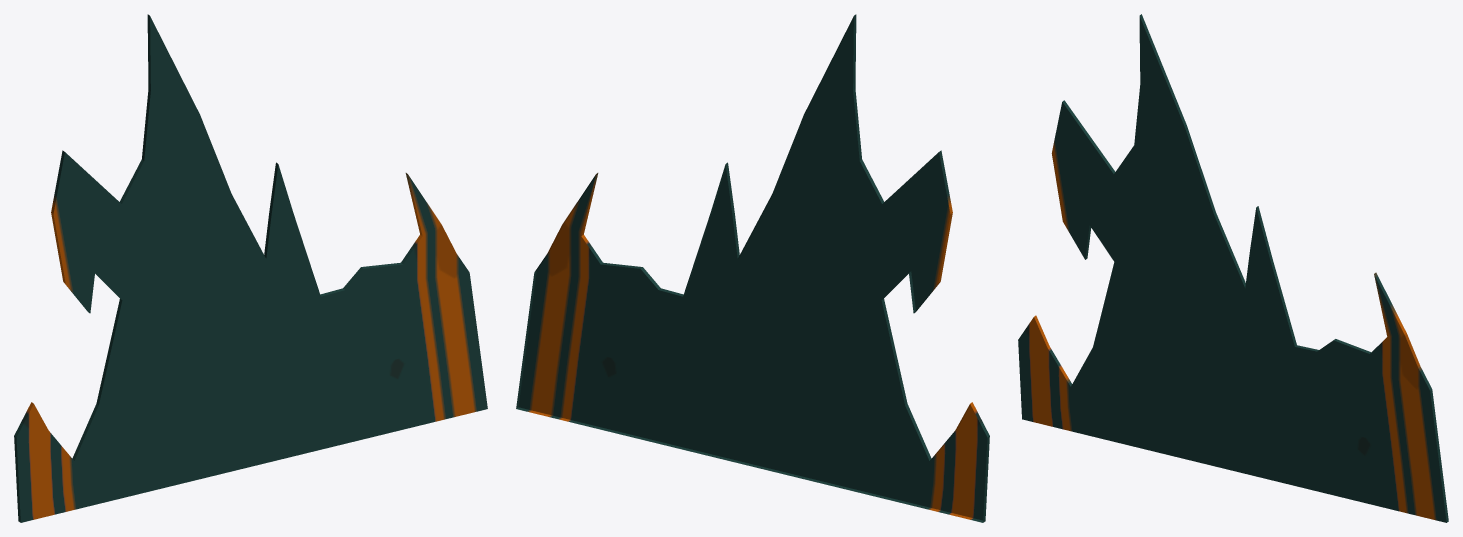
Rendered from Carpet 01 End 02.FBX.
The picture shows the model from 3 angles, left to right: view 1: azimuth 30°, elevation 25°; view 2: azimuth 150°, elevation 25°; view 3: azimuth 330°, elevation 25°; orthographic projection. The views are drawn at different scales.
Parts seen in each view (by area): view 1: Carpet 01 End 02; view 2: Carpet 01 End 02; view 3: Carpet 01 End 02.
Part boxes in pixels (x1,y1,x2,y2): Carpet 01 End 02: (14,14,487,522); Carpet 01 End 02: (516,14,989,522); Carpet 01 End 02: (1018,14,1448,522).
Bounding box in the file's own units: 168 × 162 × 1.5.
